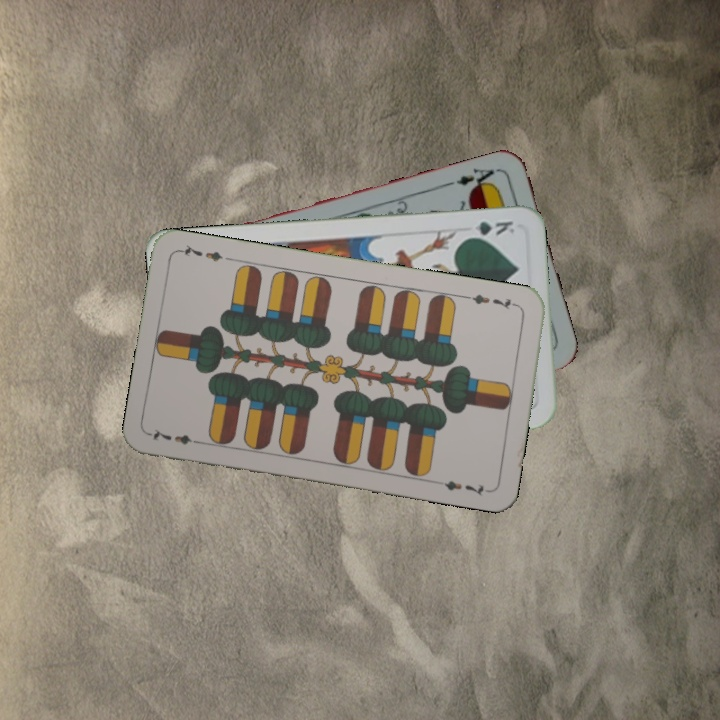E7: (147, 424, 206, 448), (463, 290, 522, 312)
EA: (444, 164, 498, 194)
GK: (460, 217, 517, 241)
